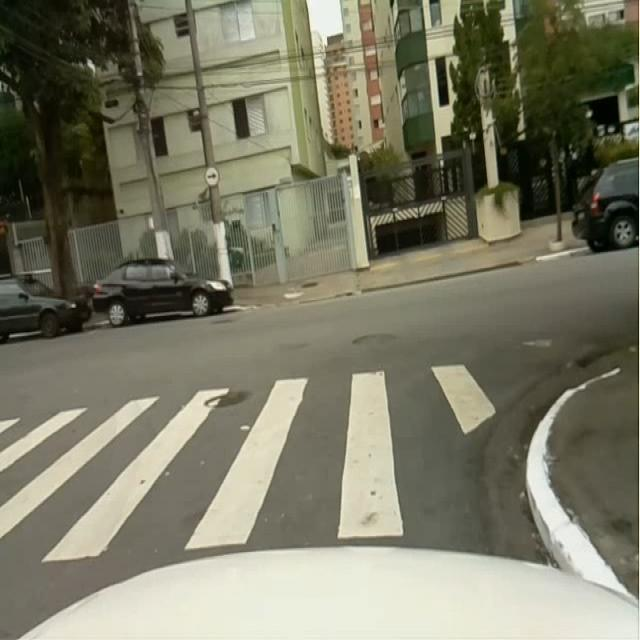car: (92, 260, 232, 326), (575, 158, 639, 251), (0, 280, 82, 336)
